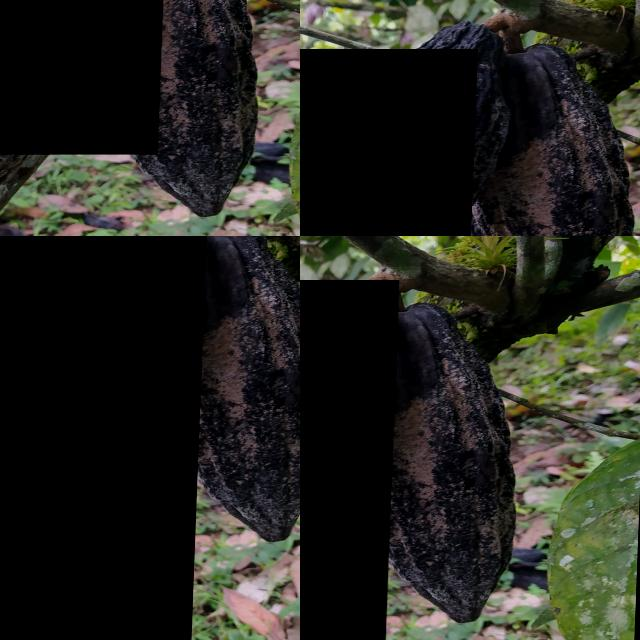Fitoftora: (0, 236, 207, 640), (348, 300, 526, 624), (300, 280, 399, 640), (480, 55, 521, 120), (513, 24, 544, 91), (588, 28, 614, 55)
Monilia: (0, 0, 170, 154)
Sana: (300, 49, 479, 236), (0, 252, 48, 404)
